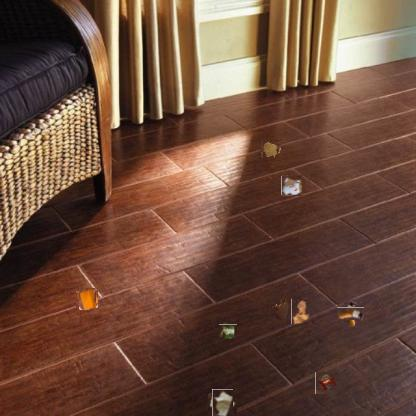dirty: (210, 390, 234, 416), (315, 372, 338, 394), (291, 298, 310, 324), (340, 304, 361, 324), (282, 175, 302, 196), (77, 289, 97, 309), (220, 323, 237, 340)
liquid: (269, 296, 289, 320), (262, 140, 282, 158)
